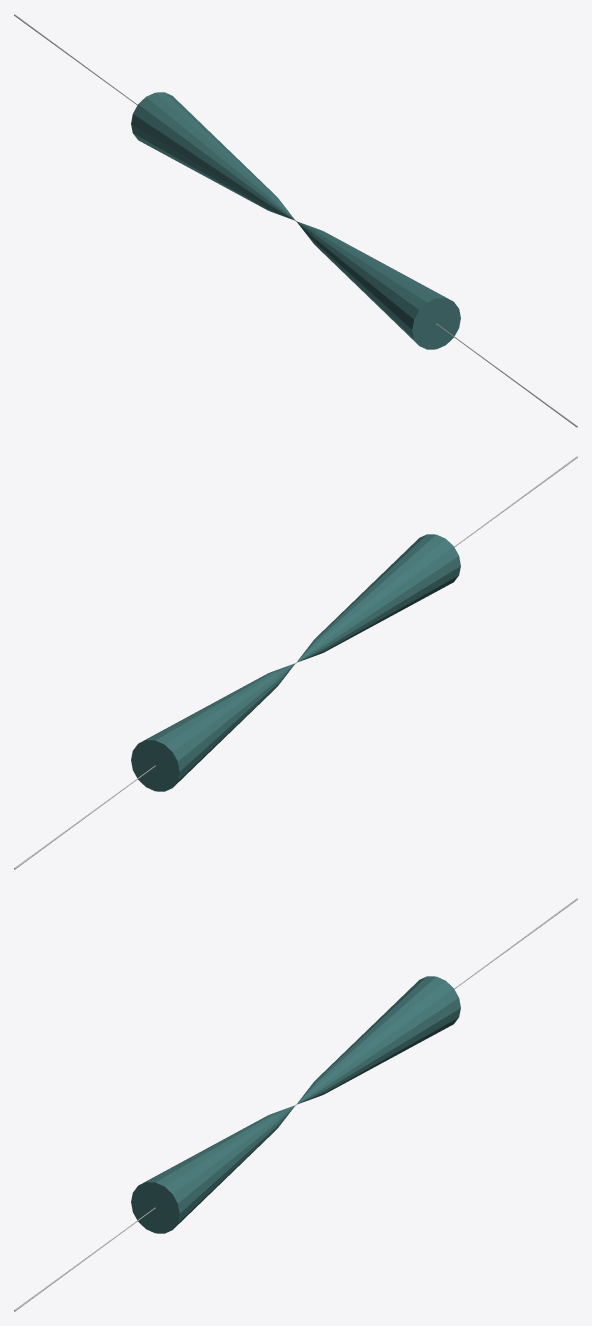
File: Main.gltf
3 renders of one model, top to bottom at view 1: azimuth 30°, elevation 25°; view 2: azimuth 150°, elevation 25°; view 3: azimuth 330°, elevation 25°, orthographic.
Visible parts, largest first — view 1: NozzleW_right_0, BeampipeInner_0; view 2: NozzleW_right_0, BeampipeInner_0; view 3: NozzleW_right_0, BeampipeInner_0.
Boxes of the visible parts, left/top/right/bottom form: NozzleW_right_0: left=131, top=92, right=460, bottom=349; BeampipeInner_0: left=14, top=14, right=577, bottom=427; NozzleW_right_0: left=131, top=534, right=460, bottom=791; BeampipeInner_0: left=14, top=456, right=577, bottom=869; NozzleW_right_0: left=131, top=976, right=460, bottom=1233; BeampipeInner_0: left=14, top=898, right=577, bottom=1311.
Size of the model in its own units: 1.2 by 1.2 by 23.98.
